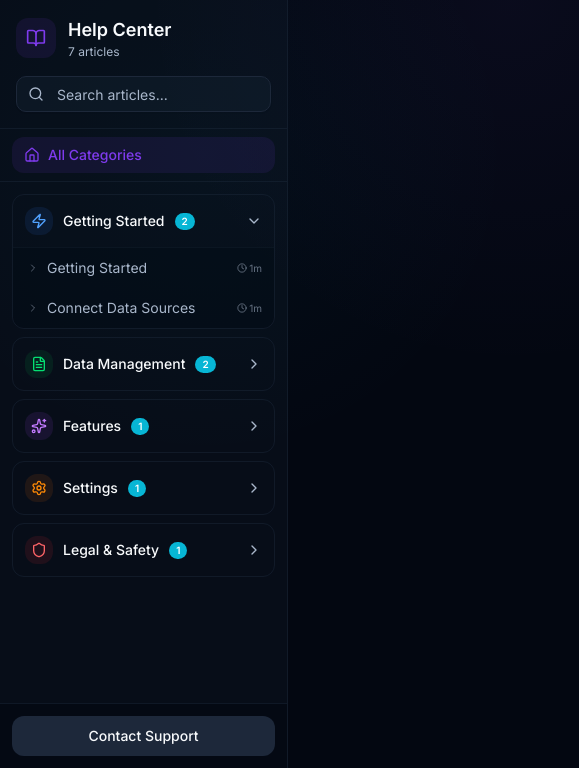
Scenario: HelpSidebar Component › Category Expansion › should toggle category expansion on click
The width and height of the screenshot is (579, 768).
Click the button "Data Management 2".
click(144, 364)  # box [13, 338, 274, 390]
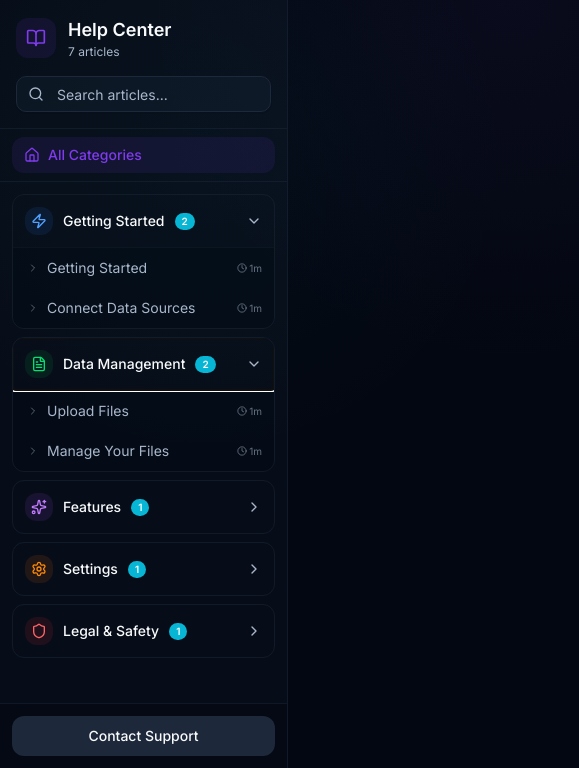
Check: the text "Upload Files" is shown, box [47, 402, 129, 419]
